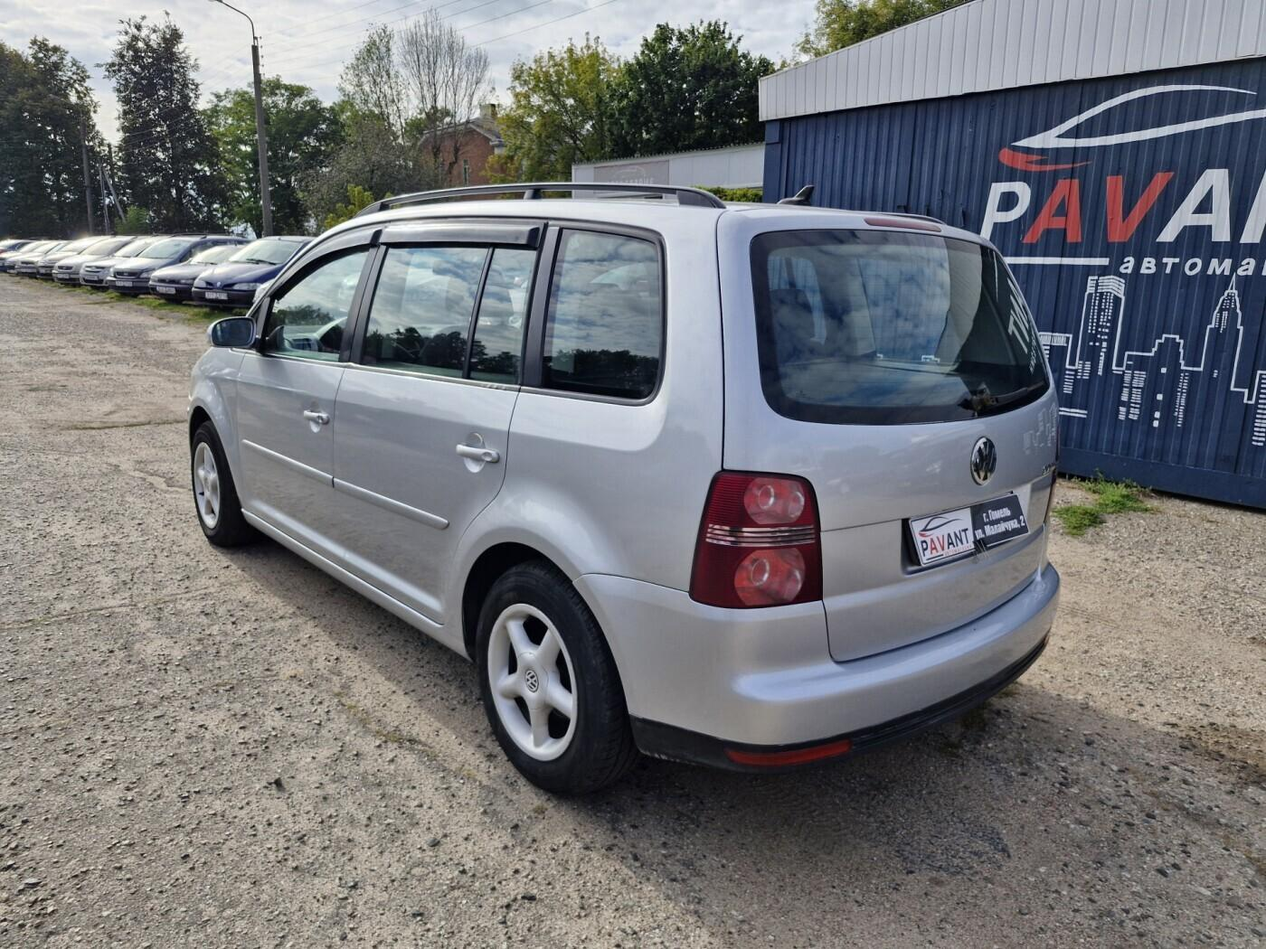Touran_2006-2010: (182, 195, 1067, 803)
